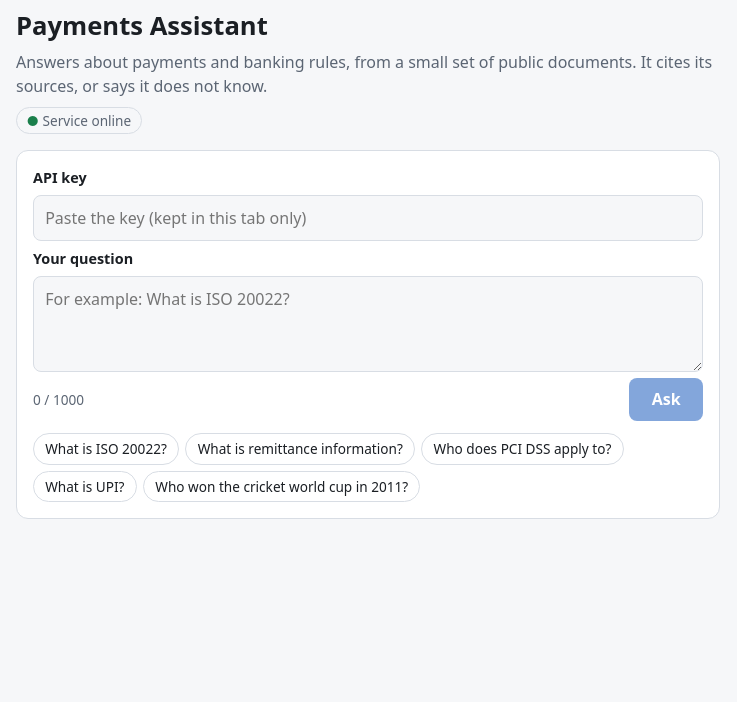
Test: the page › sends the question with the key and shows a cited answer with its sources
The width and height of the screenshot is (737, 702).
Type "s3cret" into the password field labelled "API key" at (368, 218), box [33,195,703,241]
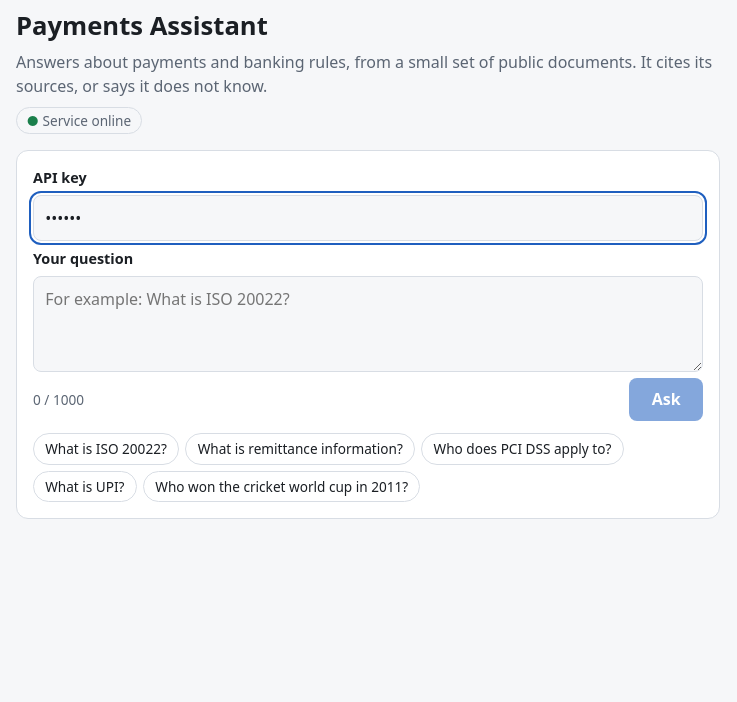
Type "What is ISO 20022?" into the text box labelled "Your question" at (368, 324), box [33,276,703,372]
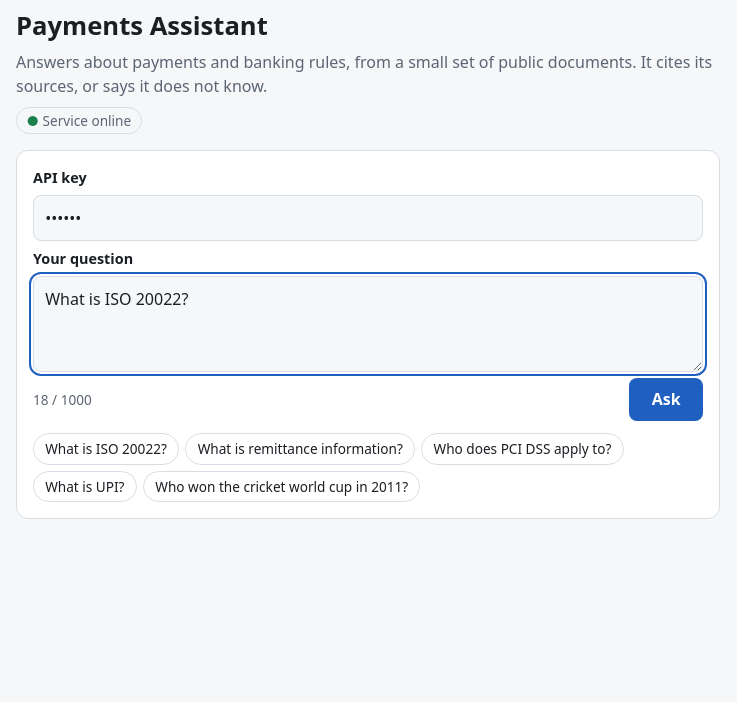
Click the button "Ask" at (666, 400), box [629,378,703,421]
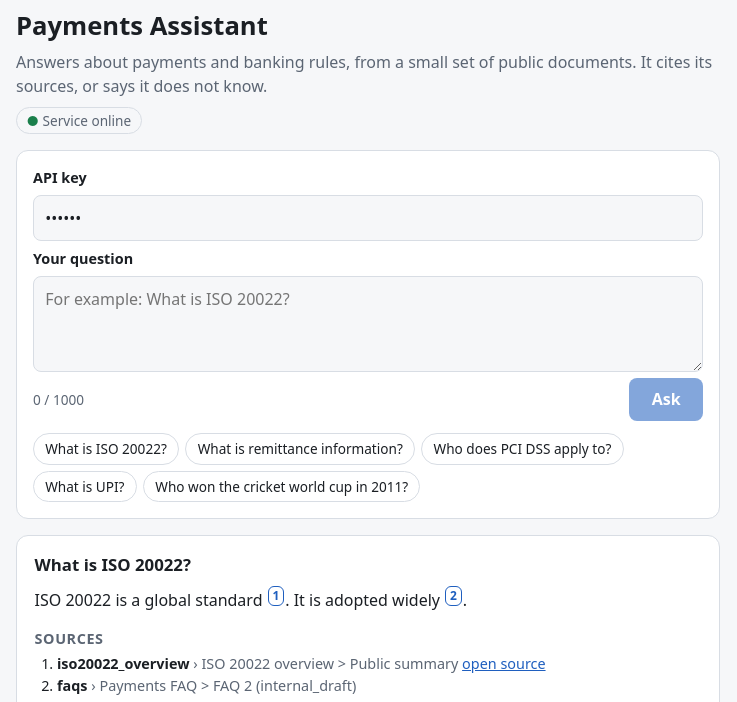
Expected: the text "ISO 20022 is a global standard" is shown, [35,589,267,611]
Expected: the text "(internal_draft)" is shown, [256,676,356,695]
Expected: the text box labelled "Your question" is empty, [33,276,703,372]
